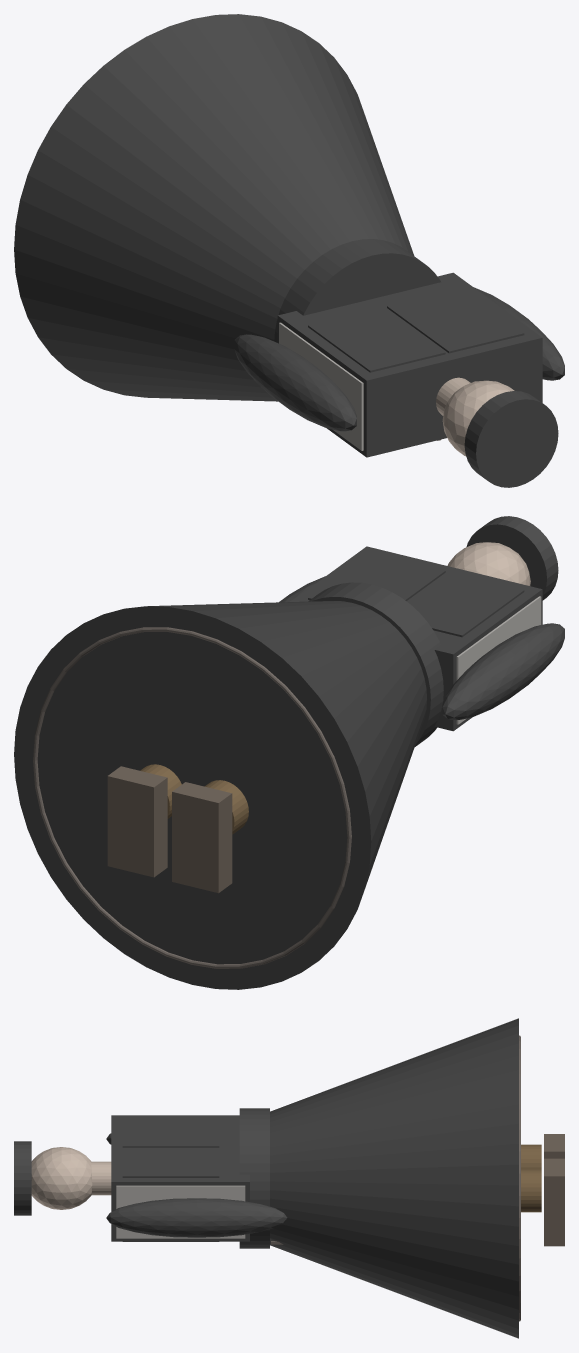
File: MASTER_105_STAGE3_DETAIL.glb
The picture shows the model from 3 angles, top to bottom: view 1: azimuth 30°, elevation 25°; view 2: azimuth 150°, elevation 25°; view 3: azimuth 270°, elevation 25°; orthographic projection. The views are drawn at different scales.
Visible parts, largest first — view 1: slot_lower_main__fund_i_gjatë, slot_upper_inner__këmishë, slot_waist__brez, slot_headwear__mbulesë_koke, slot_upper_inner_sleeve_L, slot_upper_outer__jelek/xhamadan_R, slot_upper_outer__jelek/xhamadan_L, mannequin_torso, mannequin_head, slot_upper_inner_sleeve_R; view 2: slot_lower_main__fund_i_gjatë, slot_footwear__opinga_R, slot_footwear__opinga_L, slot_upper_inner_sleeve_L, detail_skirt_hem, slot_waist__brez, slot_upper_inner__këmishë, slot_upper_outer__jelek/xhamadan_L, slot_headwear__mbulesë_koke, slot_upper_outer__jelek/xhamadan_R, mannequin_head, mannequin_torso (+2 smaller); view 3: slot_lower_main__fund_i_gjatë, slot_upper_inner_sleeve_R, slot_upper_inner__këmishë, mannequin_head, slot_upper_outer__jelek/xhamadan_R, slot_waist__brez, slot_upper_outer__jelek/xhamadan_L, mannequin_torso, slot_footwear__opinga_R, slot_headwear__mbulesë_koke, slot_legwear__çorape_R, mannequin_neck (+3 smaller).
Part boxes in pixels (x1=…): slot_lower_main__fund_i_gjatë: x1=14, y1=14, x2=414, y2=401; slot_upper_inner__këmishë: x1=277, y1=272, x2=542, y2=457; slot_waist__brez: x1=274, y1=239, x2=440, y2=342; slot_headwear__mbulesë_koke: x1=464, y1=391, x2=558, y2=487; slot_upper_inner_sleeve_L: x1=234, y1=334, x2=356, y2=431; slot_upper_outer__jelek/xhamadan_R: x1=387, y1=288, x2=524, y2=353; slot_upper_outer__jelek/xhamadan_L: x1=308, y1=307, x2=445, y2=372; mannequin_torso: x1=279, y1=322, x2=363, y2=450; mannequin_head: x1=442, y1=380, x2=514, y2=456; slot_upper_inner_sleeve_R: x1=473, y1=287, x2=564, y2=380; slot_lower_main__fund_i_gjatë: x1=14, y1=601, x2=426, y2=989; slot_footwear__opinga_R: x1=107, y1=766, x2=167, y2=877; slot_footwear__opinga_L: x1=172, y1=782, x2=232, y2=893; slot_upper_inner_sleeve_L: x1=442, y1=623, x2=564, y2=720; detail_skirt_hem: x1=33, y1=627, x2=351, y2=968; slot_waist__brez: x1=308, y1=582, x2=443, y2=746; slot_upper_inner__këmishë: x1=291, y1=546, x2=542, y2=731; slot_upper_outer__jelek/xhamadan_L: x1=408, y1=571, x2=524, y2=637; slot_headwear__mbulesë_koke: x1=466, y1=516, x2=558, y2=600; slot_upper_outer__jelek/xhamadan_R: x1=308, y1=552, x2=445, y2=600; mannequin_head: x1=447, y1=542, x2=530, y2=585; mannequin_torso: x1=456, y1=596, x2=541, y2=724; slot_lower_main__fund_i_gjatë: x1=270, y1=1018, x2=518, y2=1338; slot_upper_inner_sleeve_R: x1=106, y1=1198, x2=287, y2=1237; slot_upper_inner__këmishë: x1=111, y1=1115, x2=249, y2=1241; mannequin_head: x1=31, y1=1147, x2=92, y2=1209; slot_upper_outer__jelek/xhamadan_R: x1=122, y1=1147, x2=219, y2=1241; slot_waist__brez: x1=239, y1=1108, x2=269, y2=1248; slot_upper_outer__jelek/xhamadan_L: x1=122, y1=1117, x2=219, y2=1147; mannequin_torso: x1=116, y1=1185, x2=245, y2=1238; slot_footwear__opinga_R: x1=544, y1=1158, x2=564, y2=1246; slot_headwear__mbulesë_koke: x1=14, y1=1141, x2=31, y2=1215; slot_legwear__çorape_R: x1=521, y1=1169, x2=541, y2=1212; mannequin_neck: x1=91, y1=1161, x2=111, y2=1195.
Bounding box in the file's own units: 0.9959 × 0.9959 × 1.71.
